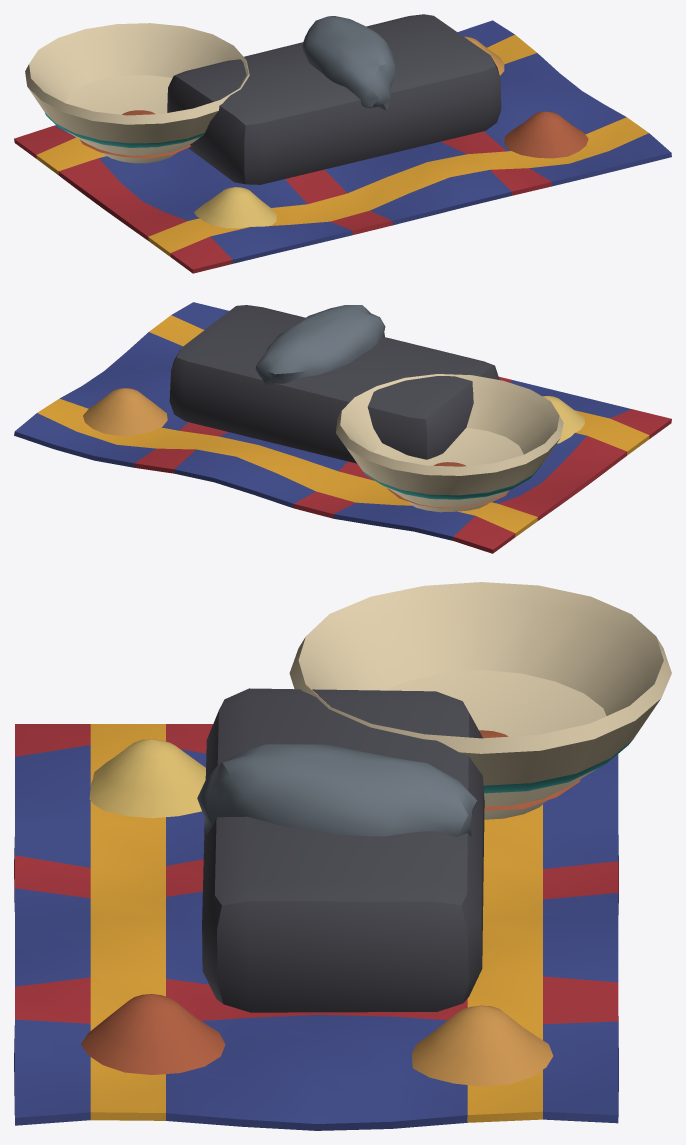
Rendered from deco_grinding_stone_saddle.fbx.
3 views of the same model, one above another, from view 1: azimuth 30°, elevation 25°; view 2: azimuth 150°, elevation 25°; view 3: azimuth 270°, elevation 25° (orthographic). The views are drawn at different scales.
Visible parts, largest first — view 1: GrindingStone_Saddle_Mat, GrindingStone_Saddle_Quern, GrindingStone_Saddle_Bowl, GrindingStone_Saddle_Grinder, GrindingStone_Saddle_Piles; view 2: GrindingStone_Saddle_Mat, GrindingStone_Saddle_Quern, GrindingStone_Saddle_Bowl, GrindingStone_Saddle_Grinder, GrindingStone_Saddle_Piles; view 3: GrindingStone_Saddle_Mat, GrindingStone_Saddle_Quern, GrindingStone_Saddle_Bowl, GrindingStone_Saddle_Piles, GrindingStone_Saddle_Grinder.
Boxes of the visible parts, x1,y1,x2,y2 form: GrindingStone_Saddle_Mat: (14, 20, 671, 273); GrindingStone_Saddle_Quern: (167, 14, 501, 184); GrindingStone_Saddle_Bowl: (25, 23, 249, 163); GrindingStone_Saddle_Grinder: (302, 16, 395, 110); GrindingStone_Saddle_Piles: (194, 36, 588, 228); GrindingStone_Saddle_Mat: (14, 302, 671, 553); GrindingStone_Saddle_Quern: (169, 305, 499, 463); GrindingStone_Saddle_Bowl: (336, 374, 563, 512); GrindingStone_Saddle_Grinder: (255, 305, 385, 386); GrindingStone_Saddle_Piles: (83, 388, 584, 443); GrindingStone_Saddle_Mat: (14, 724, 618, 1130); GrindingStone_Saddle_Quern: (202, 688, 484, 1012); GrindingStone_Saddle_Bowl: (289, 582, 671, 819); GrindingStone_Saddle_Piles: (81, 739, 553, 1086); GrindingStone_Saddle_Grinder: (197, 743, 477, 836).
Bounding box in the file's own units: 175 × 39.89 × 120.
